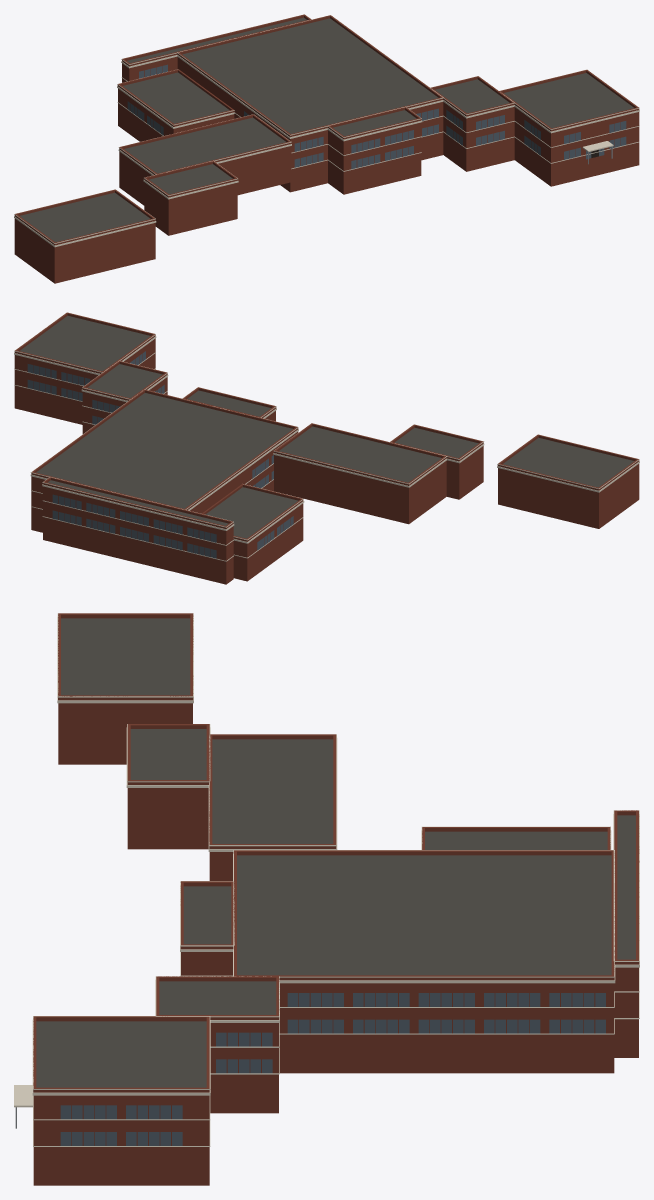
File: pcssd-building.glb
The picture shows the model from 3 angles, top to bottom: view 1: azimuth 30°, elevation 25°; view 2: azimuth 150°, elevation 25°; view 3: azimuth 270°, elevation 25°; orthographic projection. The views are drawn at different scales.
Parts seen in each view (by area): view 1: pcssd_building; view 2: pcssd_building; view 3: pcssd_building.
Part boxes in pixels (x1,y1,x2,y2): pcssd_building: (14, 14, 639, 283); pcssd_building: (14, 312, 639, 584); pcssd_building: (14, 613, 639, 1185).
Bounding box in the file's own units: 138 × 13.07 × 76.52.
